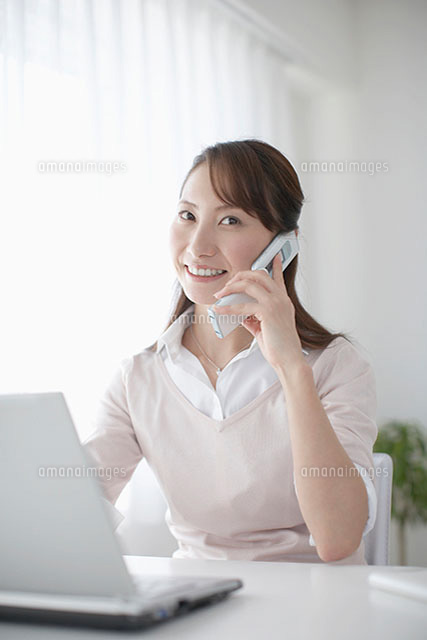phone: (216, 234, 295, 325)
talk: (170, 196, 309, 357)
